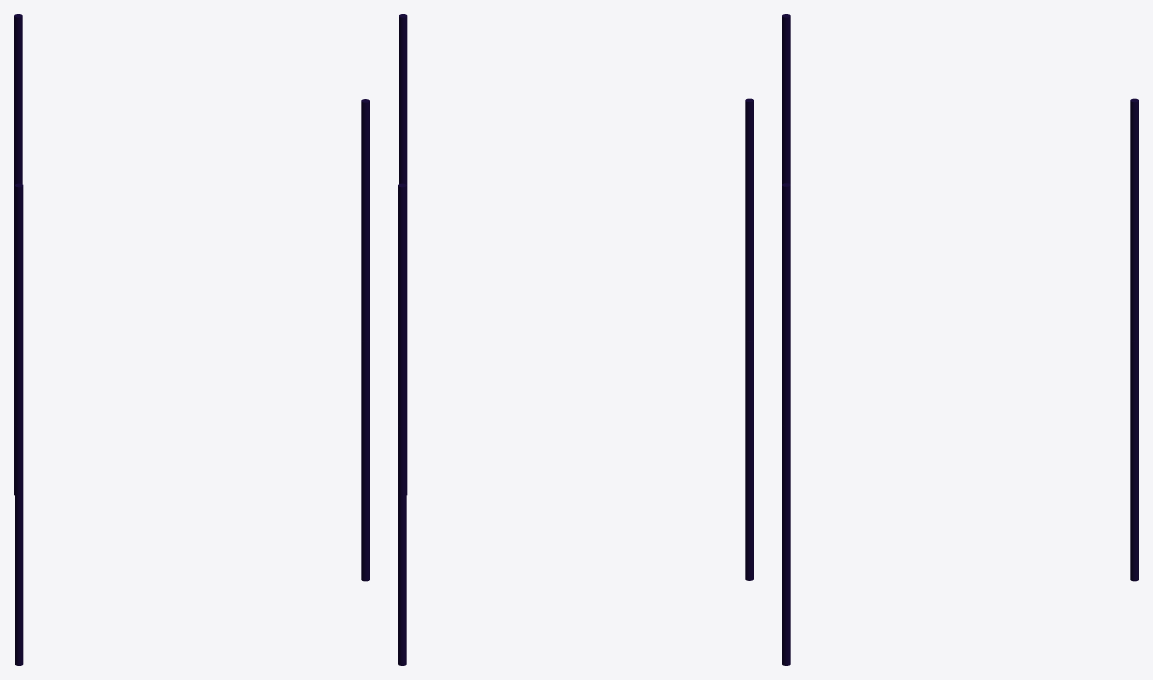
3 renders of one model, left to right at view 1: azimuth 30°, elevation 25°; view 2: azimuth 150°, elevation 25°; view 3: azimuth 270°, elevation 25°, orthographic.
Parts seen in each view (by area): view 1: Cylinder.002; view 2: Cylinder.002; view 3: Cylinder.002.
Part boxes in pixels (left/top/right/bottom): Cylinder.002: left=14, top=14, right=369, bottom=665; Cylinder.002: left=398, top=14, right=753, bottom=665; Cylinder.002: left=782, top=14, right=1138, bottom=665.
Size of the model in its own units: 2.63 by 3.4 by 2.29.
